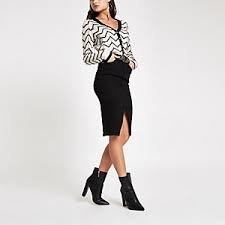S_skirt: (84, 60, 150, 139)
